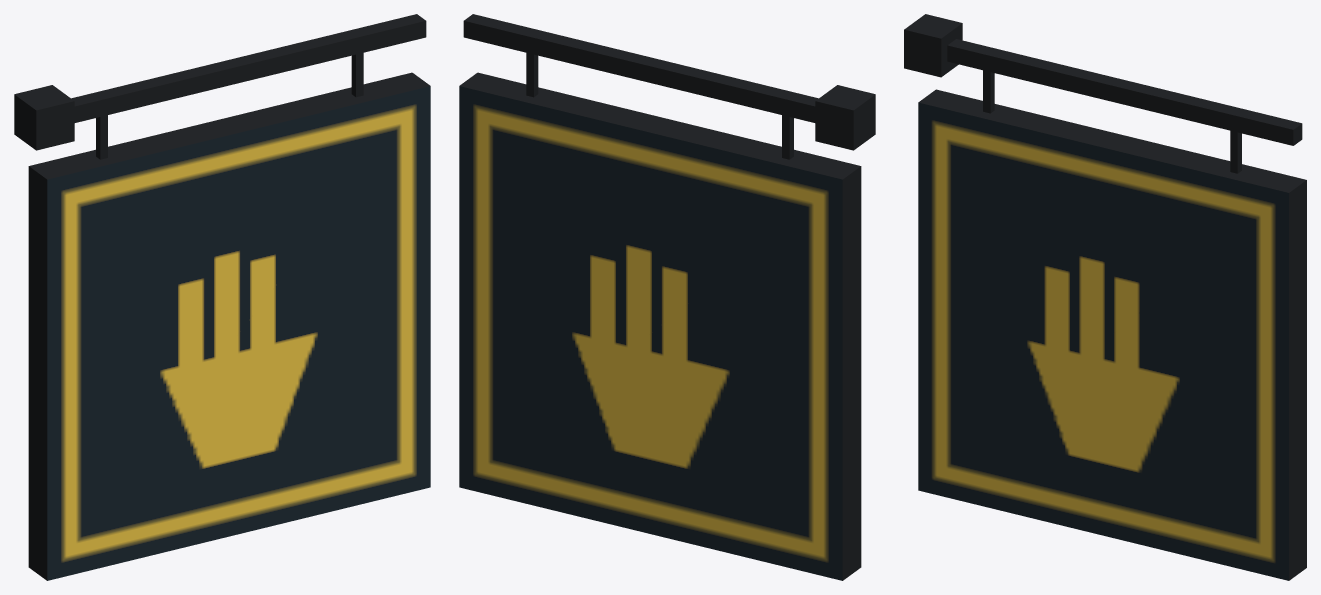
File: blade-sign.obj
3 views of the same model, side by side, from view 1: azimuth 30°, elevation 25°; view 2: azimuth 150°, elevation 25°; view 3: azimuth 330°, elevation 25° (orthographic). The views are drawn at different scales.
Visible parts, largest first — view 1: part5, part2.nocast, part1.nocast, part4.nocast; view 2: part5, part2.nocast, part1.nocast, part4.nocast; view 3: part5, part2.nocast, part1.nocast.
Boxes of the visible parts, x1,y1,x2,y2 form: part5: [28, 72, 430, 580]; part2.nocast: [20, 14, 426, 133]; part1.nocast: [14, 85, 74, 150]; part4.nocast: [351, 53, 363, 97]; part5: [459, 72, 861, 580]; part2.nocast: [463, 14, 818, 122]; part1.nocast: [815, 85, 875, 150]; part4.nocast: [526, 53, 538, 97]; part5: [918, 89, 1306, 580]; part2.nocast: [947, 39, 1302, 145]; part1.nocast: [904, 14, 962, 77].
Bounding box in the file's own units: 0.62 × 0.71 × 0.06.
Materials: 2 (1 with a texture image).
